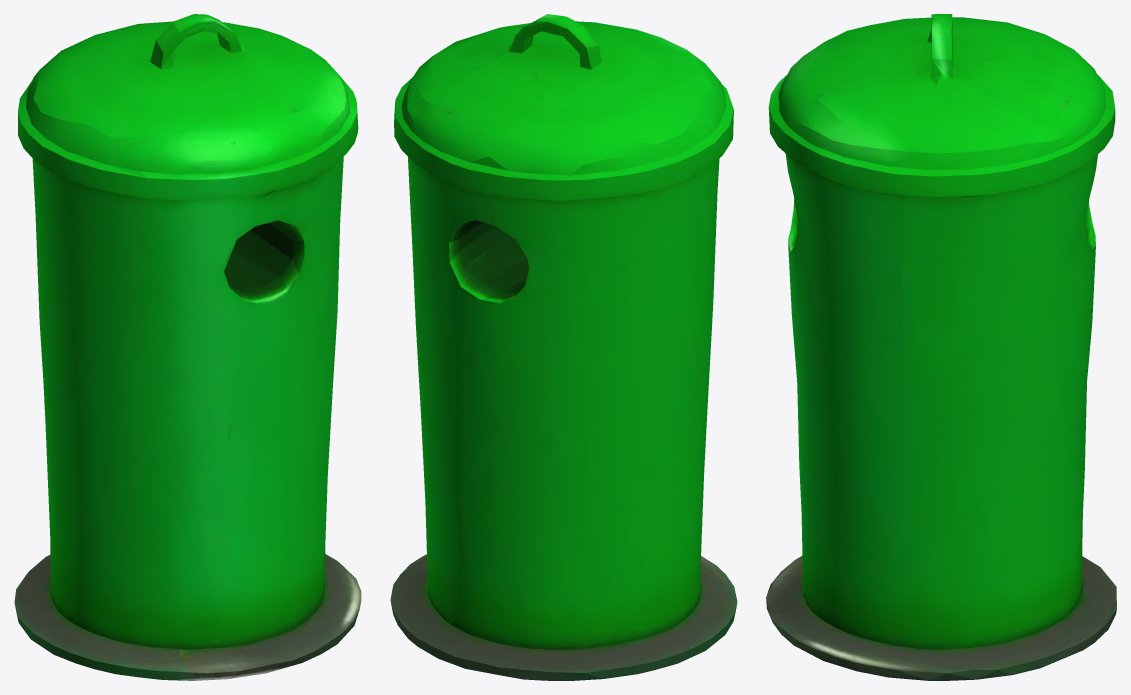
File: bin.glb
The picture shows the model from 3 angles, left to right: view 1: azimuth 30°, elevation 25°; view 2: azimuth 150°, elevation 25°; view 3: azimuth 270°, elevation 25°; orthographic projection.
Visible parts, largest first — view 1: model; view 2: model; view 3: model.
Part boxes in pixels (left/top/right/bottom): model: left=14, top=14, right=361, bottom=680; model: left=390, top=14, right=737, bottom=680; model: left=766, top=14, right=1116, bottom=680.
Bounding box in the file's own units: 1.02 × 1.9 × 1.02.
1 material, 1 textured.
